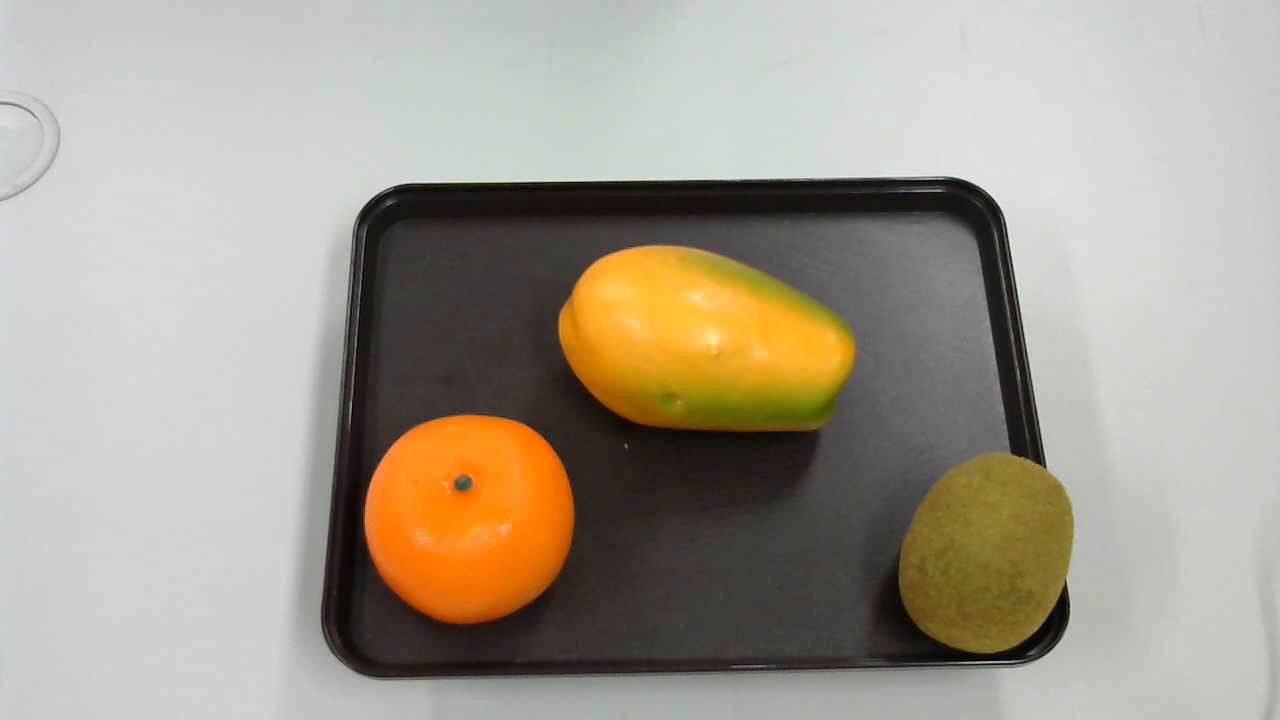kiwi fruit: (899, 447, 1079, 661)
orange: (367, 403, 574, 624)
papya: (551, 240, 863, 443)
